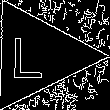L_N: (19, 30, 55, 81)
